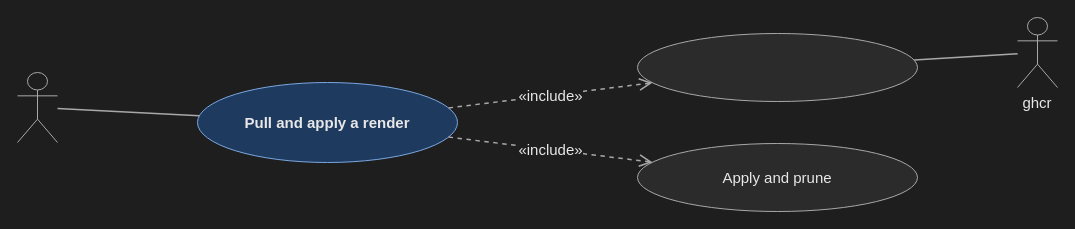
The diagram is 1075 pixels wide and 229 high, and some of its shapes have lost their labels. The shapes that lost their labels are listed below. From the top down, each one's centre as x and y in pixels, then its label:
At [777,67]: "Verify the signature".
At [37,107]: "Flux".
